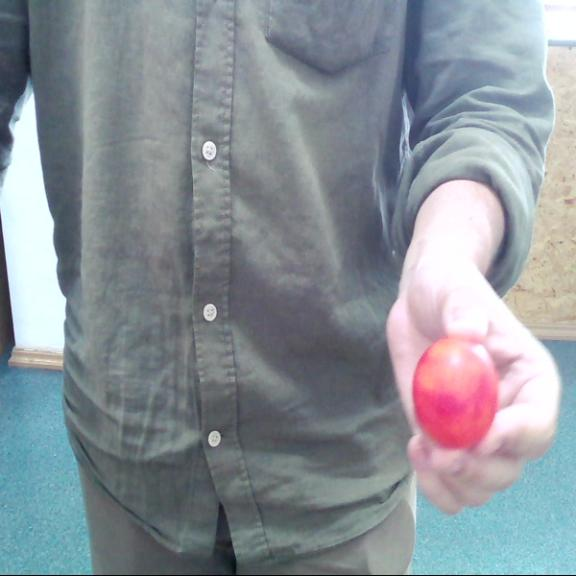ball: (413, 334, 499, 445)
